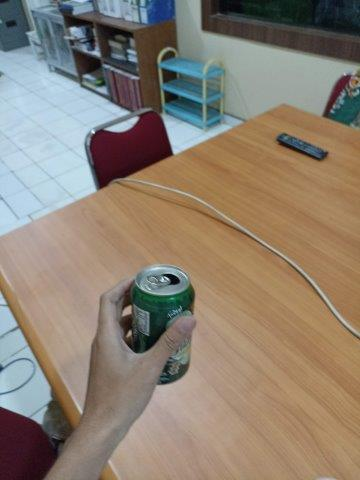kaleng: (131, 264, 195, 385)
